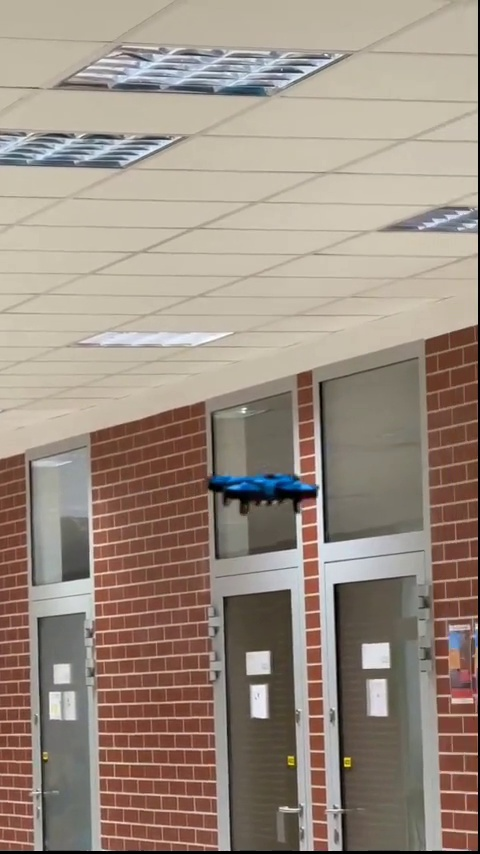drone: (211, 472, 315, 514)
